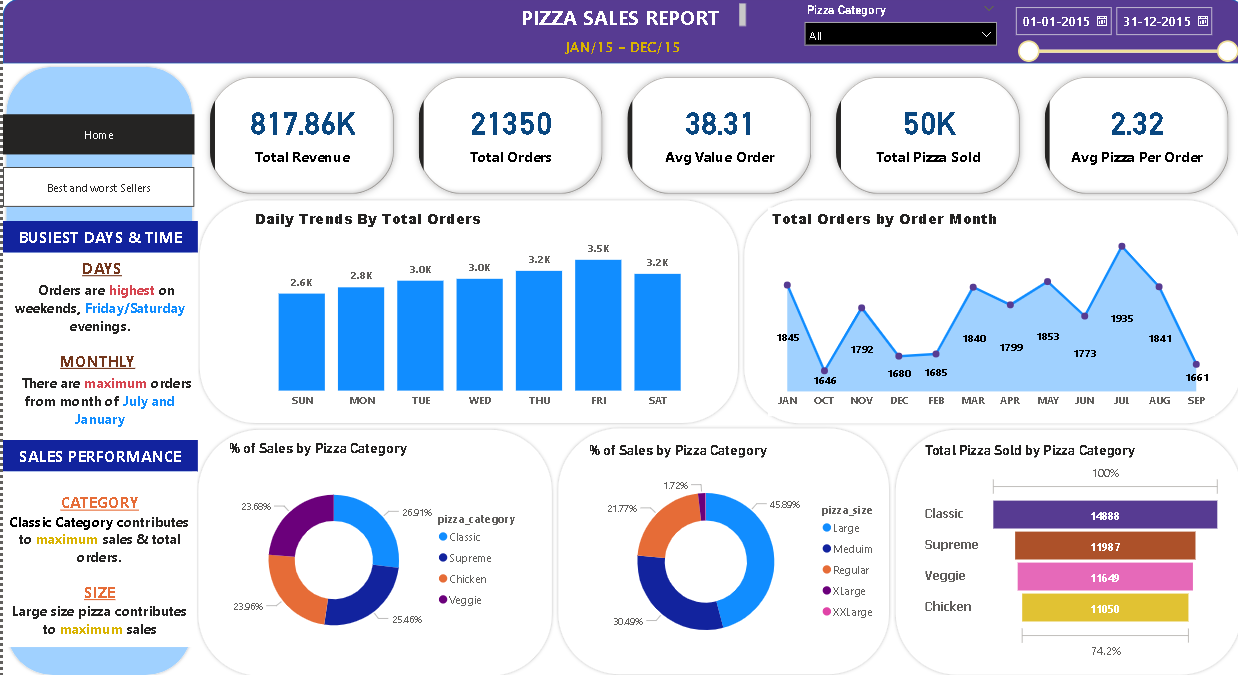

Layout of this report page (visuals, bound fields, positions):
{"tool":"powerbi","page":{"name":"Home","canvas":[1500,820],"ordinal":0},"visuals":[{"type":"cardVisual","fields":{"Data":["pizza_sales.Total Revenue","pizza_sales.Total Orders","pizza_sales.Avg Value Order","pizza_sales.Total Pizza Sold","pizza_sales.Avg Pizza Per Order"]},"box":[233.7,77.9,1266.3,173.9],"z":0},{"type":"shape","box":[0,0,1499.9,77.9],"z":1000},{"type":"textbox","box":[597.8,0,304.3,39.9],"z":2000},{"type":"textbox","box":[628.6,43.5,240.9,45.3],"z":3000},{"type":"shape","box":[233,239,658,277],"z":4000},{"type":"shape","box":[891.3,239.1,608.7,277.2],"z":5000},{"type":"clusteredColumnChart","title":"Daily Trends By Total Orders","fields":{"Category":["pizza_sales.Order Day"],"Y":["pizza_sales.Total Orders"]},"box":[298.9,251.8,554.3,251.8],"z":6000},{"type":"stackedAreaChart","fields":{"Category":["pizza_sales.Order Month"],"Y":["pizza_sales.Total Orders"]},"box":[923.9,251.8,539.8,251.8],"z":7000},{"type":"shape","box":[232.5,516.2,435,305],"z":8000},{"type":"shape","box":[667.5,515,407.5,305],"z":9000},{"type":"shape","box":[1075,516.2,425,303.8],"z":10000},{"type":"donutChart","title":"% of Sales by Pizza Category","fields":{"Category":["pizza_sales.pizza_category"],"Y":["pizza_sales.Total Revenue"]},"box":[268.8,532.5,371.2,270],"z":11000},{"type":"donutChart","title":"% of Sales by Pizza Category","fields":{"Y":["pizza_sales.Total Revenue"],"Category":["pizza_sales.pizza_size"]},"box":[703.8,533.8,371.2,270],"z":12000},{"type":"funnel","title":"Total Pizza Sold by Pizza Category","fields":{"Y":["pizza_sales.Total Pizza Sold"],"Category":["pizza_sales.pizza_category"]},"box":[1108.8,533.8,367.5,268.8],"z":13000},{"type":"shape","box":[0,77.5,232.5,742.5],"z":14000},{"type":"textbox","box":[0,306.1,235.5,226.4],"z":15000},{"type":"textbox","box":[0,268.1,235.5,38],"z":16000},{"type":"textbox","box":[0,532.6,235.5,38],"z":17000},{"type":"textbox","box":[0,570.6,233.7,211.9],"z":18000},{"type":"slicer","fields":{"Values":["pizza_sales.pizza_category"]},"box":[958.3,0,251.8,85.1],"z":19000},{"type":"slicer","fields":{"Values":["pizza_sales.order_date"]},"box":[1210.1,0,289.8,77.9],"z":20000},{"type":"pageNavigator","box":[0,139.5,231.9,48.9],"z":21000},{"type":"pageNavigator","box":[0,202.9,231.9,48.9],"z":22000}]}

Visuals, with their boxes in screenshot pixels (x1, y1, x2, y2), scaled from the page's 1500x820 canvas onto the 1238x675 screenshot:
cardVisual - pizza_sales.Total Revenue x pizza_sales.Total Orders: locate(193, 64, 1237, 207)
shape: locate(0, 0, 1237, 64)
textbox: locate(493, 0, 745, 33)
textbox: locate(519, 36, 718, 73)
shape: locate(192, 197, 735, 425)
shape: locate(736, 197, 1237, 425)
"Daily Trends By Total Orders" clusteredColumnChart: locate(247, 207, 704, 415)
stackedAreaChart - pizza_sales.Order Month x pizza_sales.Total Orders: locate(763, 207, 1208, 415)
shape: locate(192, 425, 551, 674)
shape: locate(551, 424, 887, 674)
shape: locate(887, 425, 1237, 674)
"% of Sales by Pizza Category" donutChart: locate(222, 438, 528, 661)
"% of Sales by Pizza Category" donutChart: locate(581, 439, 887, 662)
"Total Pizza Sold by Pizza Category" funnel: locate(915, 439, 1218, 661)
shape: locate(0, 64, 192, 674)
textbox: locate(0, 252, 194, 438)
textbox: locate(0, 221, 194, 252)
textbox: locate(0, 438, 194, 470)
textbox: locate(0, 470, 193, 644)
slicer - pizza_sales.pizza_category: locate(791, 0, 999, 70)
slicer - pizza_sales.order_date: locate(999, 0, 1237, 64)
pageNavigator: locate(0, 115, 191, 155)
pageNavigator: locate(0, 167, 191, 207)
